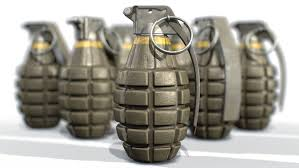bomb: (113, 5, 201, 163)
